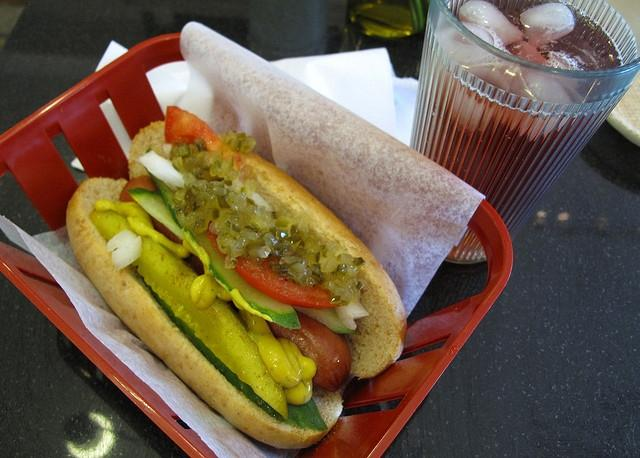onion: (138, 150, 186, 191), (107, 231, 142, 272), (333, 300, 370, 330)
tomato: (207, 221, 341, 310), (166, 106, 216, 144)
